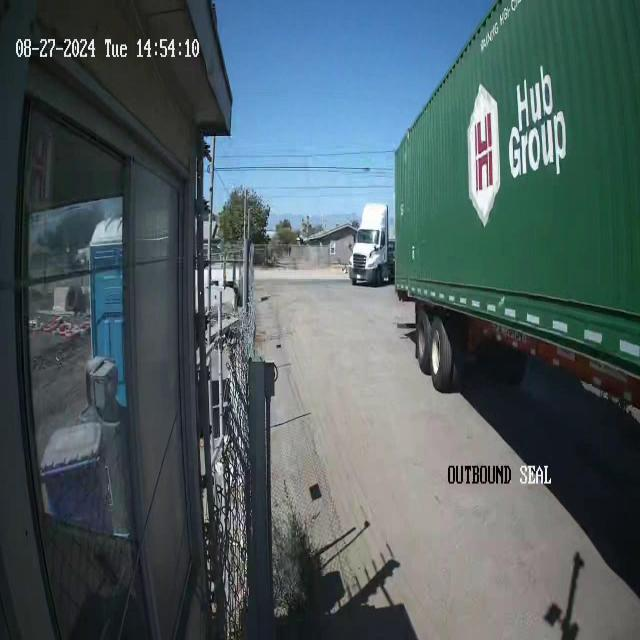TRUCK_IN: (393, 0, 639, 412)
